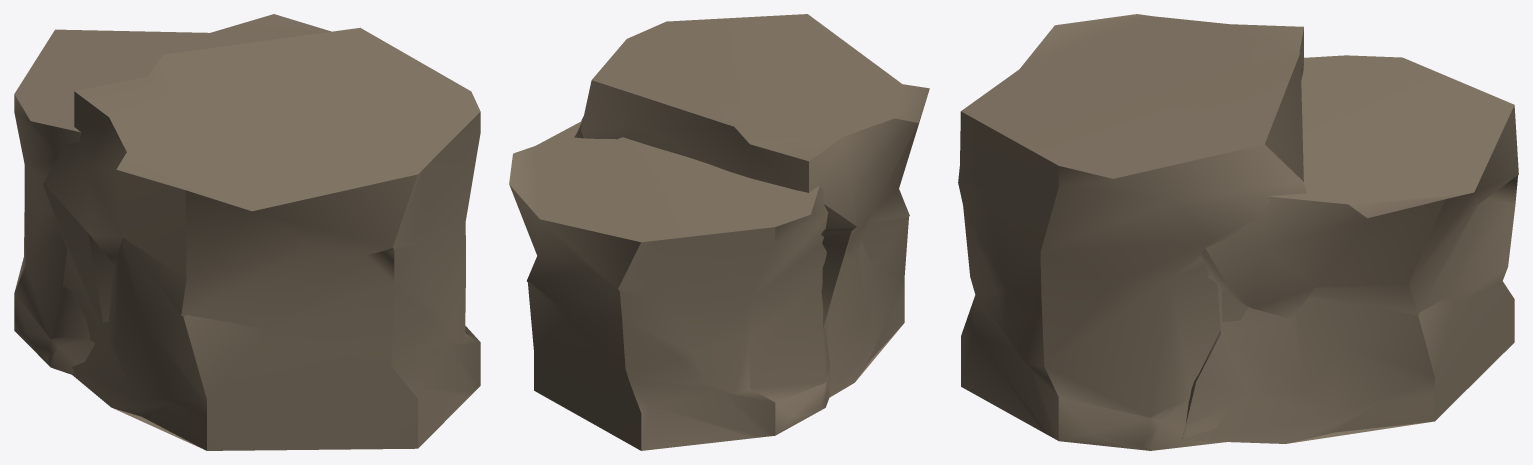
File: two rock.fbx
The picture shows the model from 3 angles, left to right: view 1: azimuth 30°, elevation 25°; view 2: azimuth 150°, elevation 25°; view 3: azimuth 270°, elevation 25°; orthographic projection. The views are drawn at different scales.
Parts seen in each view (by area): view 1: polySurface4; view 2: polySurface4; view 3: polySurface4.
Part boxes in pixels (<box>): polySurface4: <box>14,14,480,450</box>; polySurface4: <box>509,14,929,450</box>; polySurface4: <box>958,14,1518,450</box>.
Bounding box in the file's own units: 10.15 × 8.01 × 13.58.
